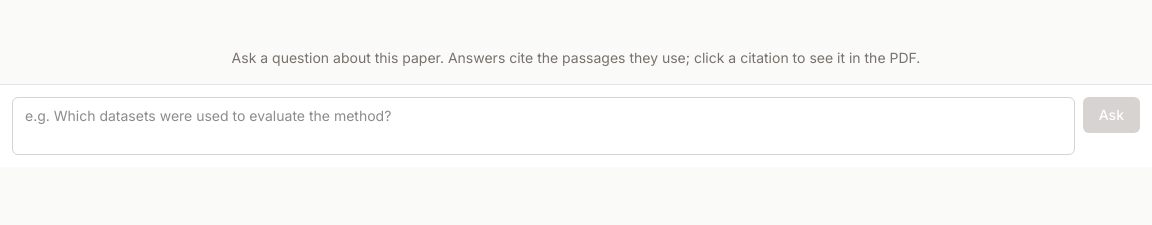
Scenario: Chat › can stop an answer in progress
Type "Which datasets?" into the text box named "question" at (543, 126), box [12,97,1075,155]
Then press Enter
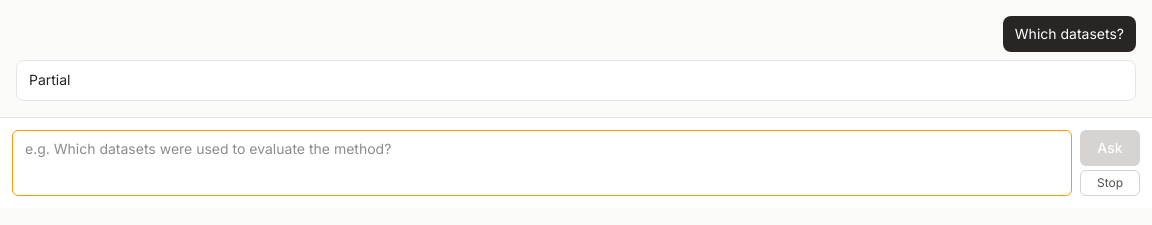
Click the button "Stop" at (1110, 183), box [1080,170,1140,196]
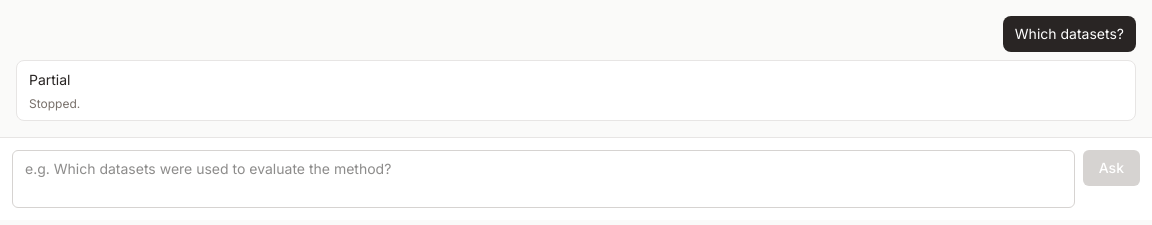
Result: the text "Stopped." is shown at [29,96,80,111]
